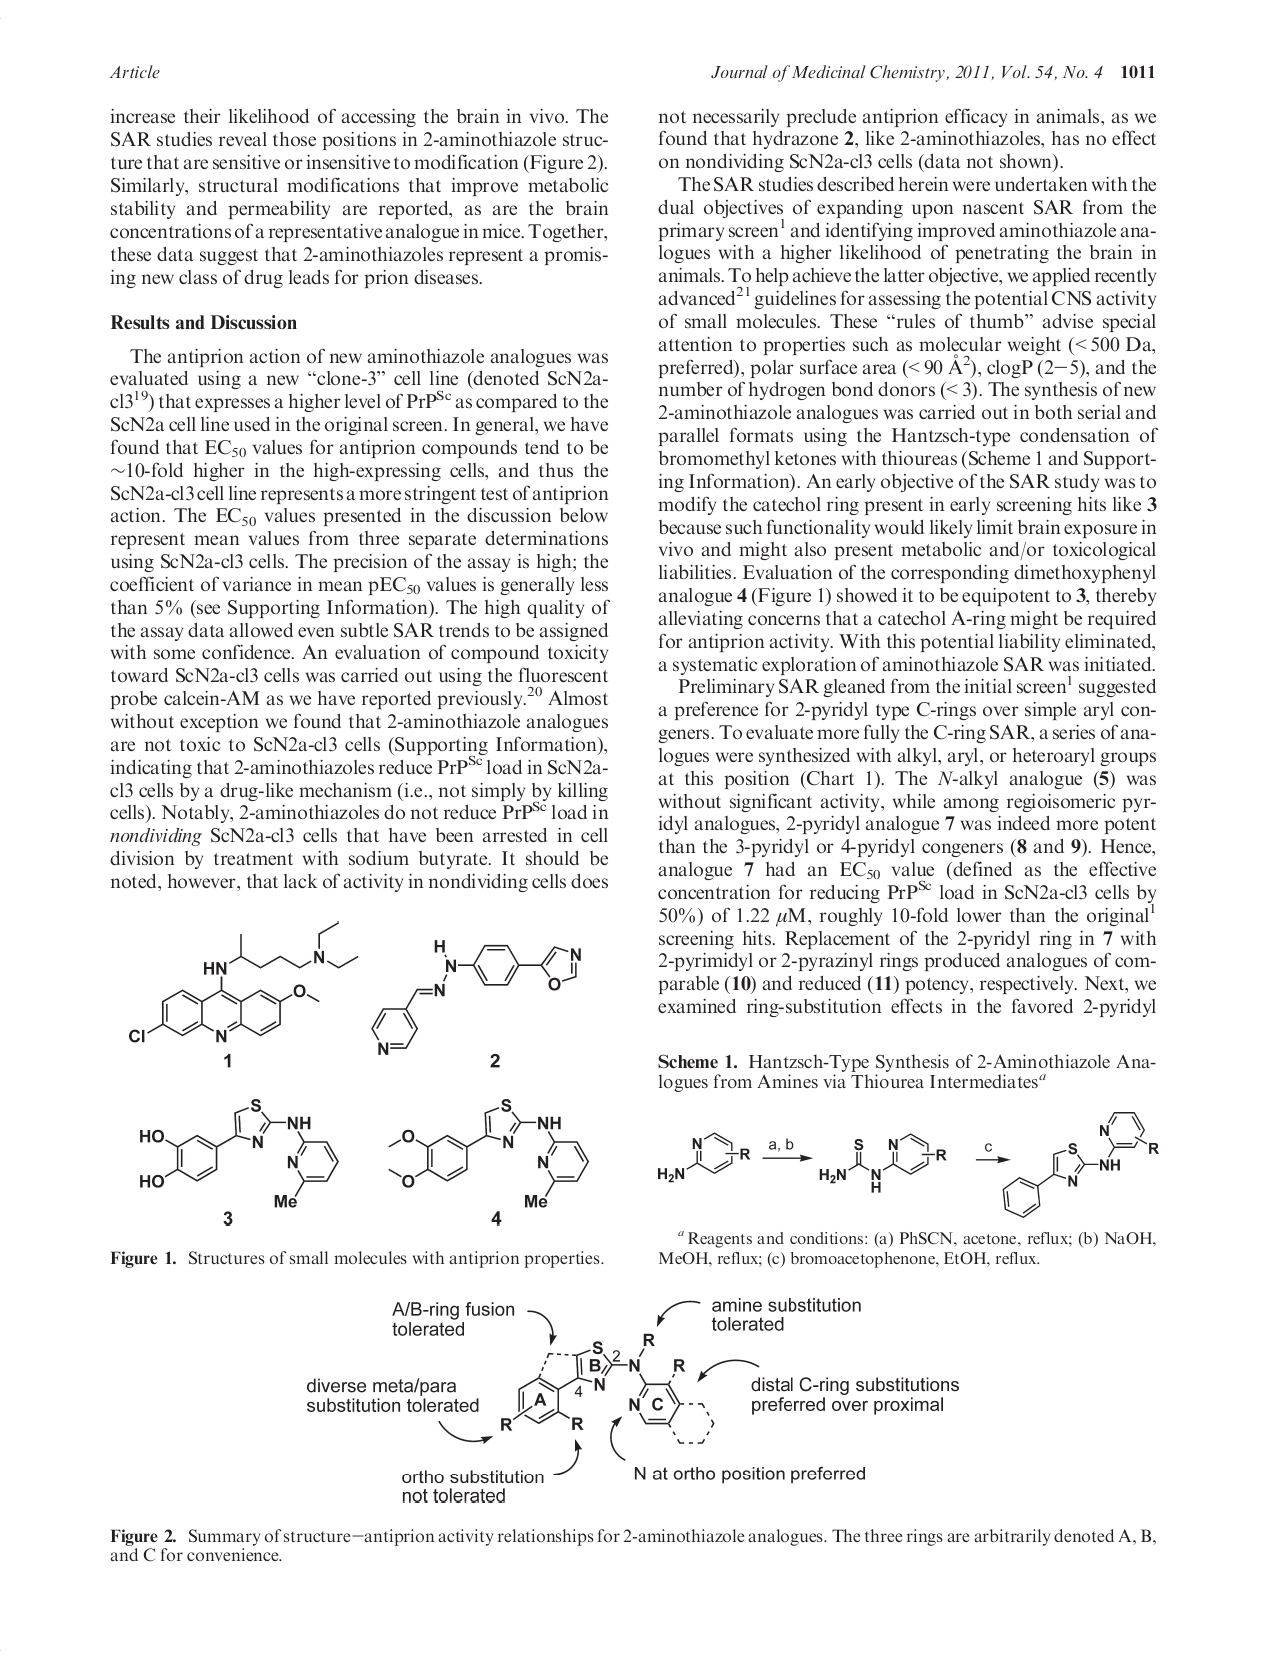exist_molecular: (124, 919, 359, 1044), (368, 930, 584, 1056), (497, 1331, 715, 1450), (380, 1092, 590, 1213), (136, 1093, 340, 1212), (1000, 1106, 1160, 1220), (817, 1118, 949, 1198), (652, 1124, 751, 1188)
